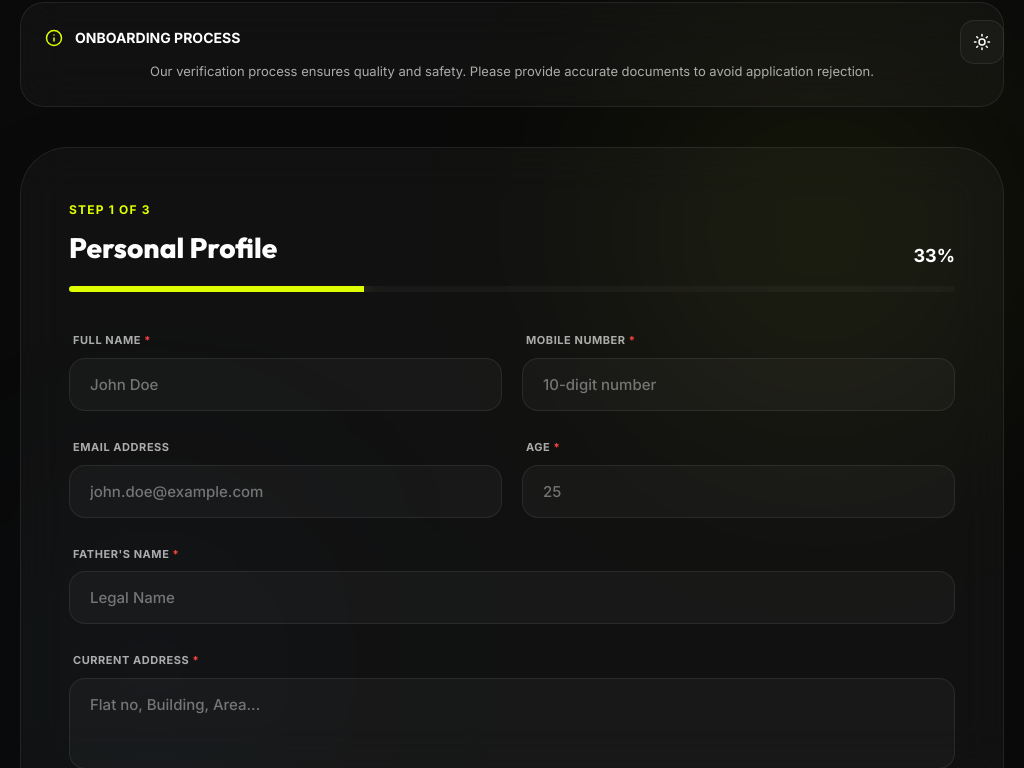
Test: Crew application — input sanitization (bugs 5, 6, 7) › strips special characters/digits from Full Name
(page scrolled)
Type "Jo@hn#1 Doe" into the field with placeholder "John Doe" at (286, 384), box [69,358,502,411]
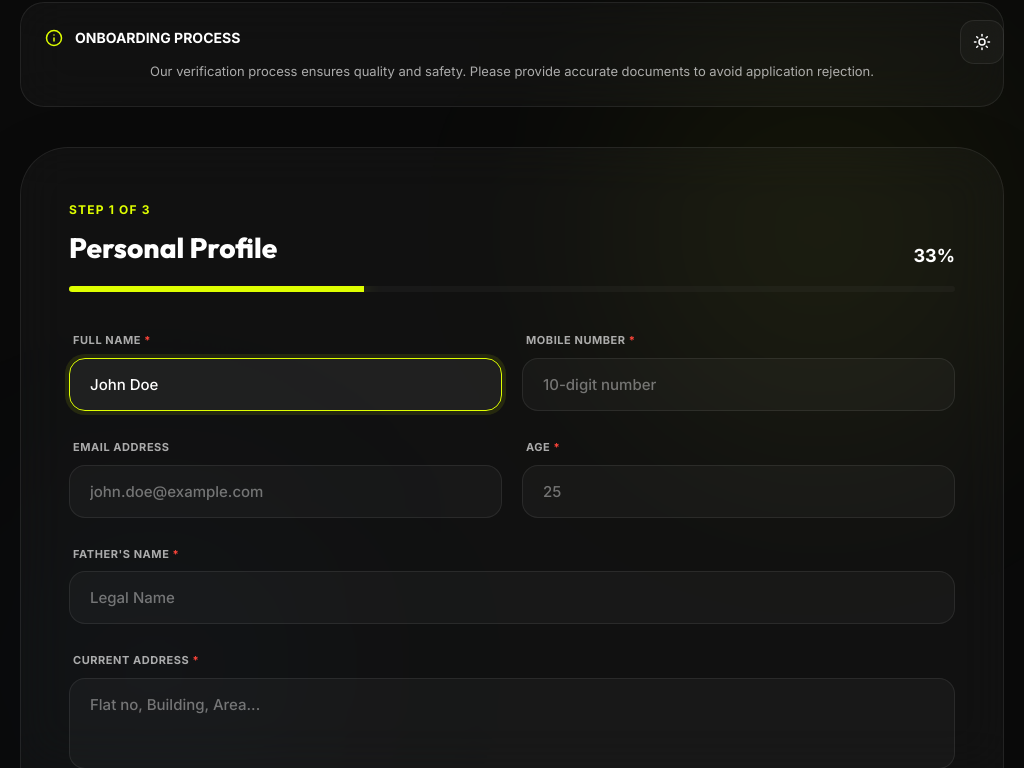
Now the field with placeholder "John Doe" holds "John Doe", box [69,358,502,411]
